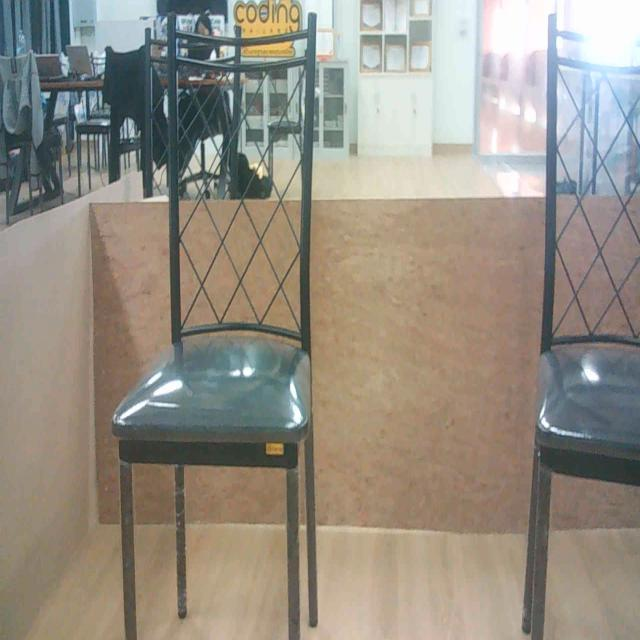emtpy: (125, 28, 337, 640), (529, 0, 640, 640)
